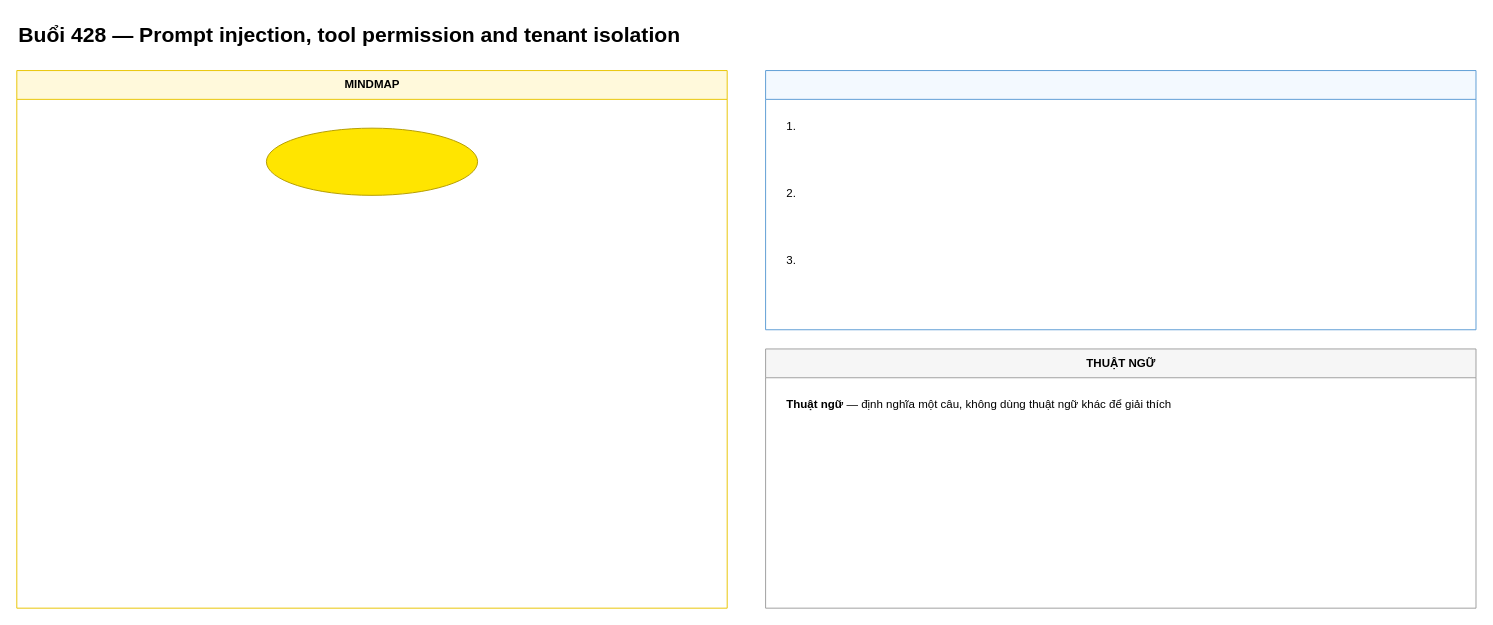
This 1493x625 diagram has some shape labels left out. The shapes that lost their labels are listed below. From the top down, each one's box as (x1, y1, x2, y2) in pixels, then its label:
(265, 127, 478, 195): Prompt injection, tool permission and tenant isolation
(765, 70, 1476, 330): KEY TAKEAWAY — ba điều phải nhớ
